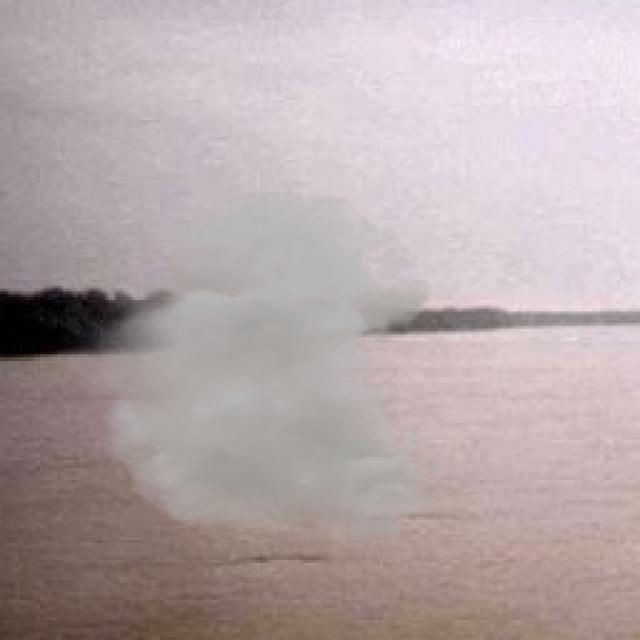smoke: (51, 191, 443, 546)
